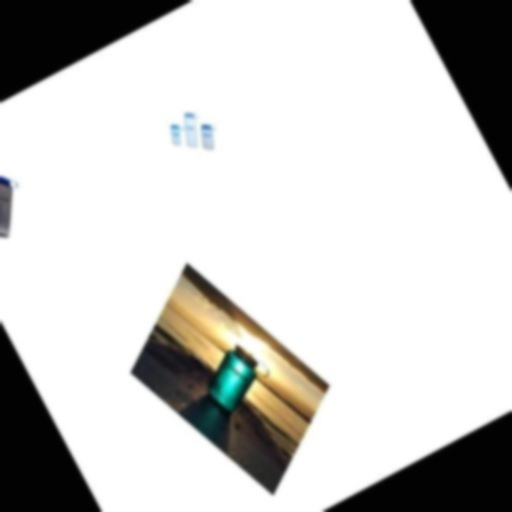bottle: (188, 334, 280, 422), (0, 160, 42, 248), (171, 106, 213, 153), (191, 118, 225, 156), (159, 114, 192, 152)
